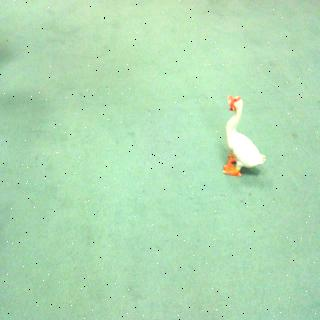duck: (215, 88, 269, 188)
